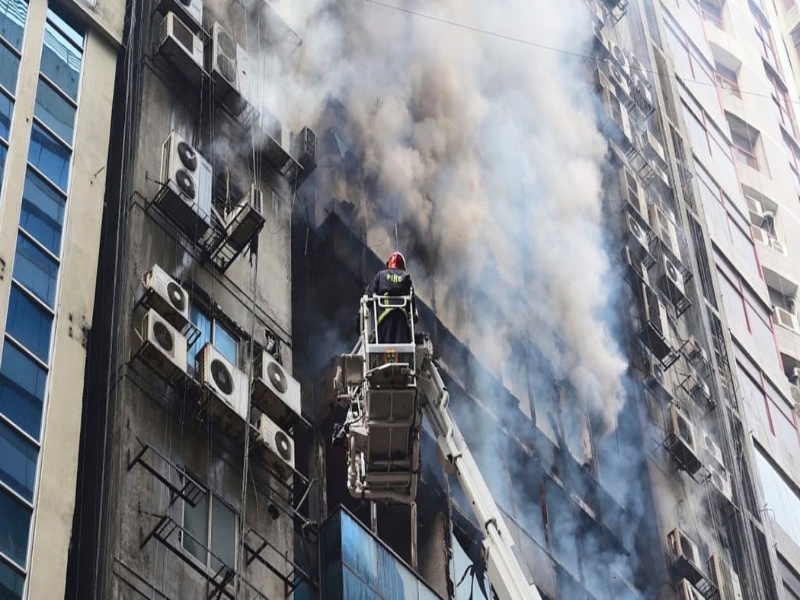smoke: (357, 1, 605, 374)
